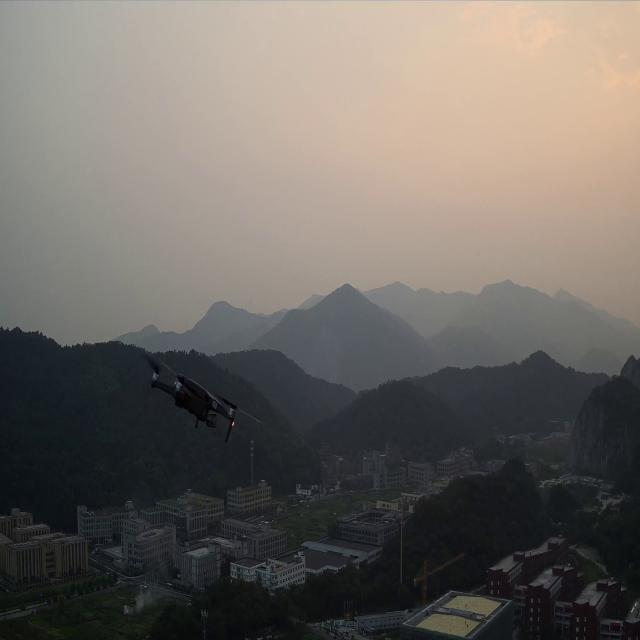UAV: (141, 352, 260, 446)
